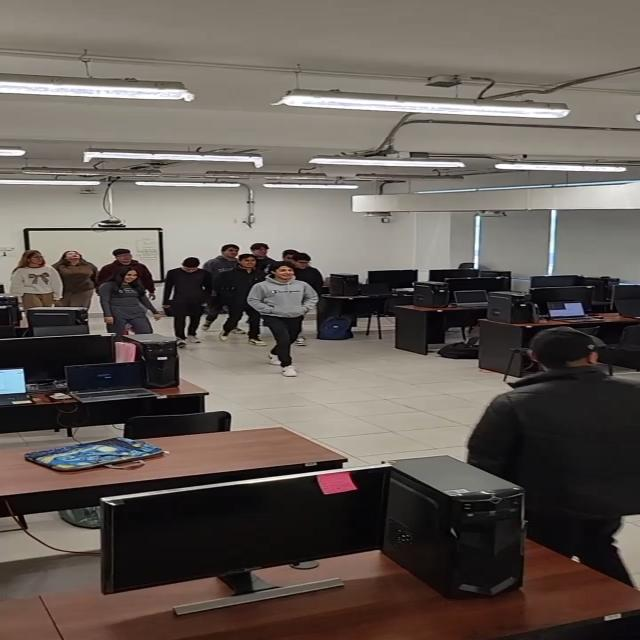Persona: (469, 333, 640, 553), (266, 265, 306, 373), (164, 256, 210, 344), (101, 270, 160, 332), (221, 258, 259, 347), (10, 249, 62, 312), (62, 248, 96, 312), (99, 243, 153, 267), (290, 252, 332, 275), (209, 239, 238, 267), (252, 238, 275, 259)
